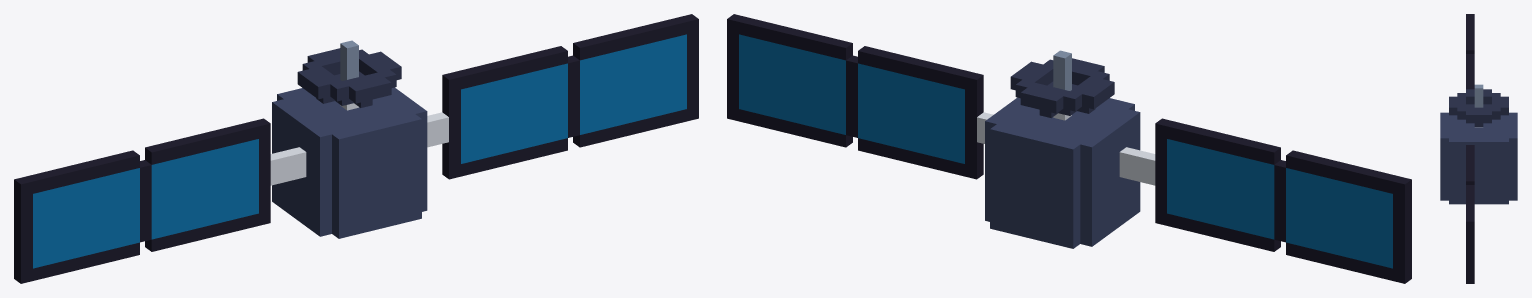
Rendered from satellite_big.glb.
The picture shows the model from 3 angles, left to right: view 1: azimuth 30°, elevation 25°; view 2: azimuth 150°, elevation 25°; view 3: azimuth 270°, elevation 25°; orthographic projection. The views are drawn at different scales.
Parts seen in each view (by area): view 1: ObjObject.007; view 2: ObjObject.007; view 3: ObjObject.007.
Part boxes in pixels (box(x1,y1,x2,y2)): ObjObject.007: box(14, 14, 698, 283); ObjObject.007: box(727, 14, 1411, 283); ObjObject.007: box(1440, 14, 1517, 283).
Bounding box in the file's own units: 5.7 × 1.3 × 0.9.
1 material, 1 textured.
